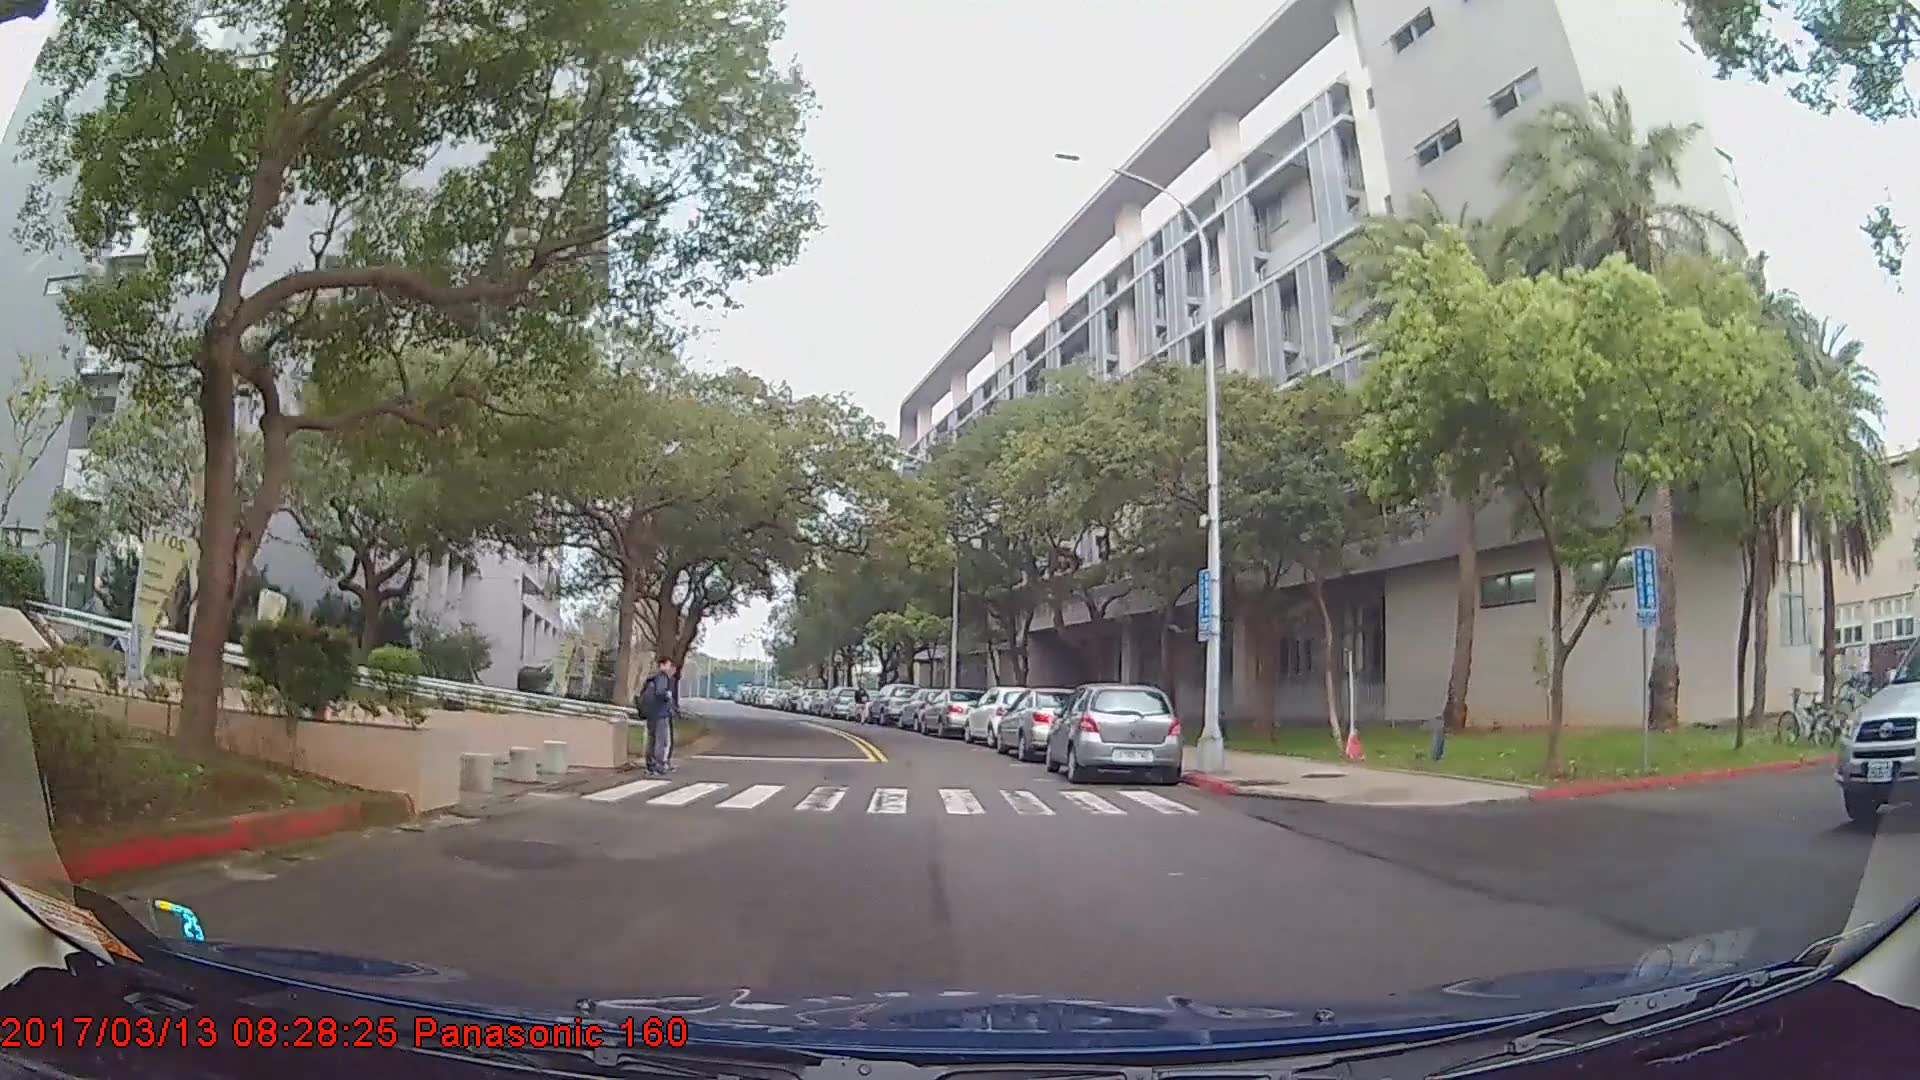pedestrian: (641, 656, 685, 782), (854, 682, 874, 726)
vehicle: (1835, 633, 1920, 823), (1045, 680, 1181, 783), (992, 686, 1088, 759), (963, 683, 1049, 747), (918, 686, 987, 738), (867, 679, 921, 724)
